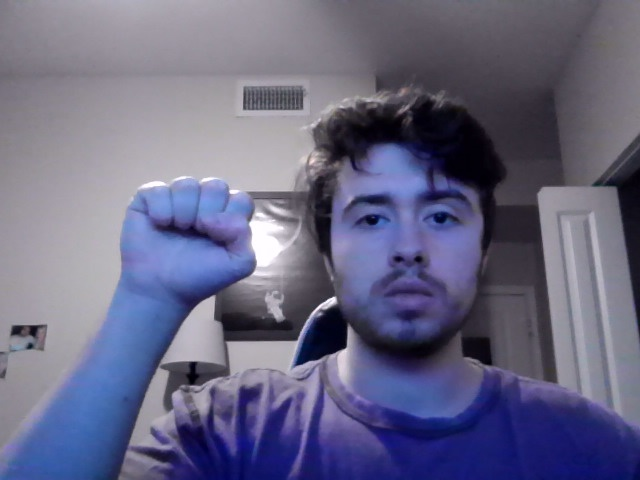s: (118, 176, 257, 320)
